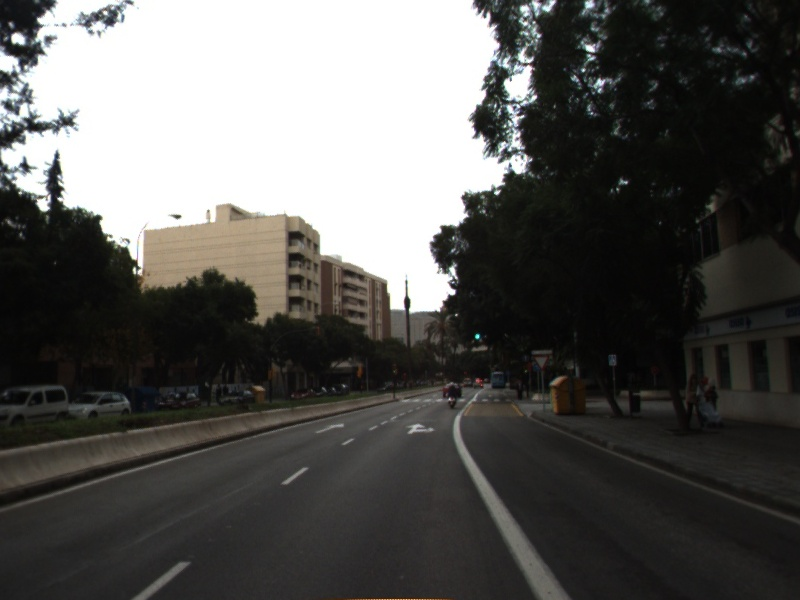STRAIGHT: (313, 420, 347, 435)
STRAIGHT_RIGHT: (403, 421, 438, 436)
